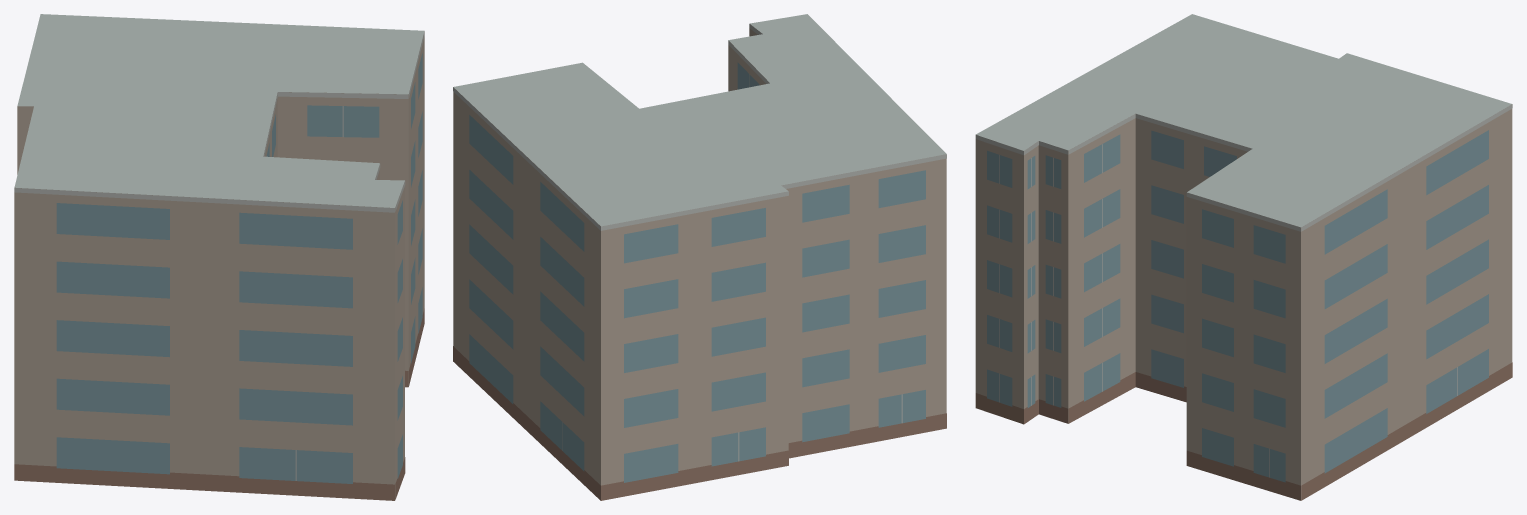
The model's file is survey-upis-32825947.glb.
The picture shows the model from 3 angles, left to right: view 1: azimuth 30°, elevation 25°; view 2: azimuth 150°, elevation 25°; view 3: azimuth 270°, elevation 25°; orthographic projection. The views are drawn at different scales.
Parts seen in each view (by area): view 1: survey-upis-32825947.tmp; view 2: survey-upis-32825947.tmp; view 3: survey-upis-32825947.tmp.
Boxes of the visible parts, x1=… form: survey-upis-32825947.tmp: x1=14, y1=14, x2=424, y2=500; survey-upis-32825947.tmp: x1=453, y1=14, x2=946, y2=500; survey-upis-32825947.tmp: x1=975, y1=14, x2=1512, y2=500.
Bounding box in the file's own units: 25.29 × 15.1 × 26.88.
